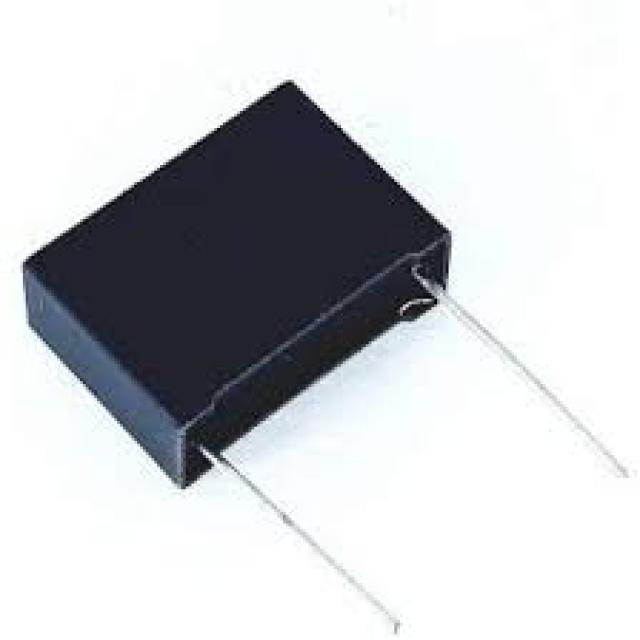Capacitor: (23, 82, 451, 489)
